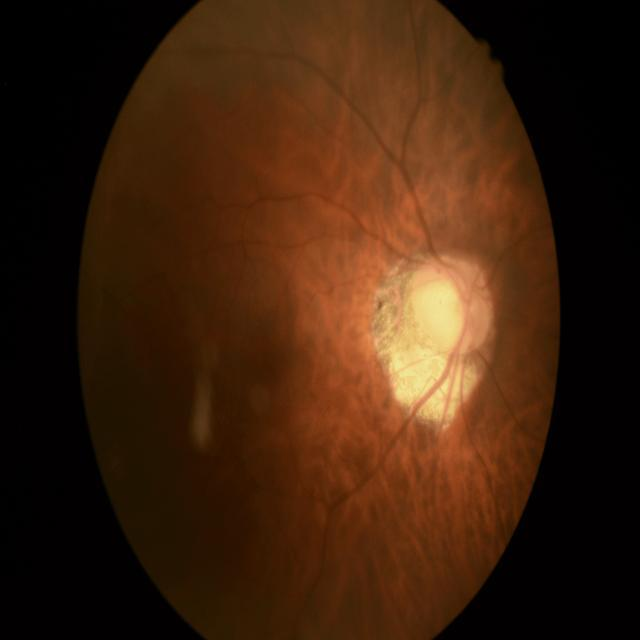cup: (414, 270, 467, 343)
disk: (406, 254, 492, 354)
